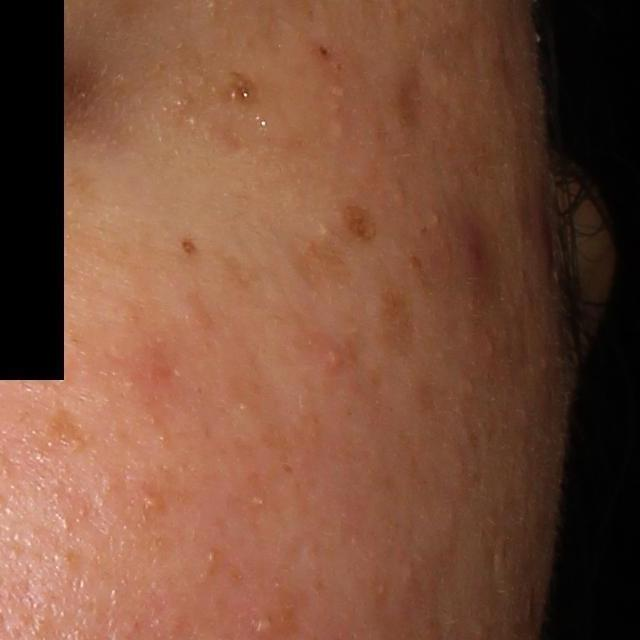melasma: (371, 271, 424, 367), (285, 232, 359, 288), (41, 406, 89, 455), (340, 201, 380, 244), (223, 69, 257, 104)
nevus: (180, 236, 199, 258)
